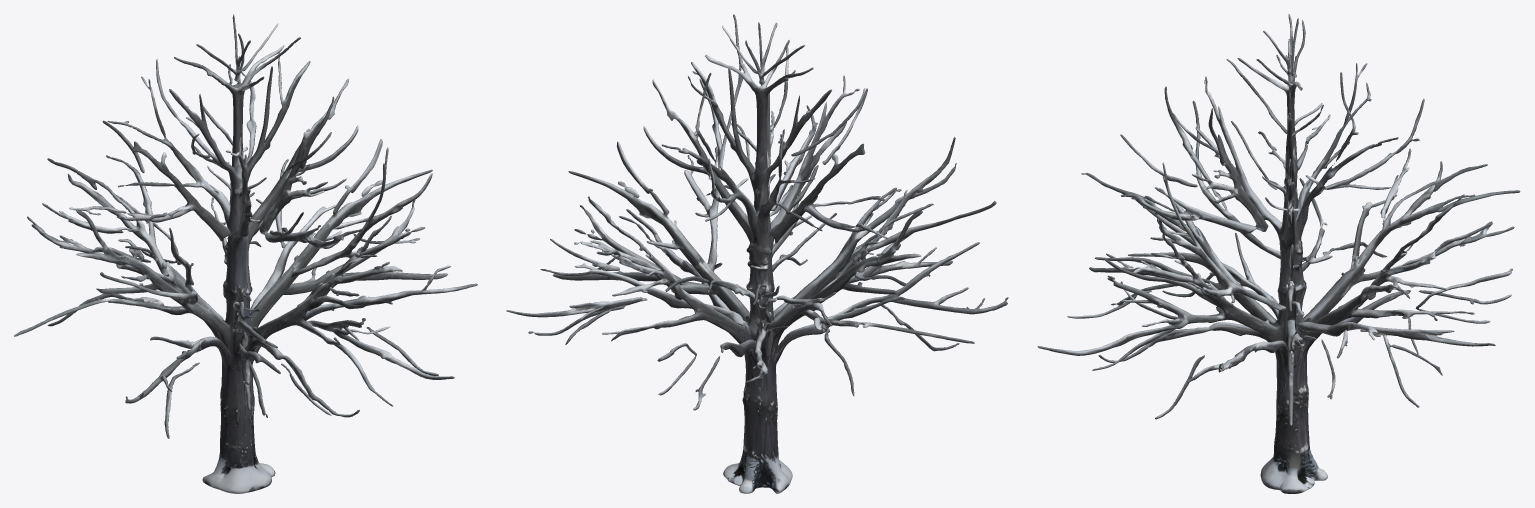
Rendered from nature-tree-winter.glb.
3 renders of one model, left to right at view 1: azimuth 30°, elevation 25°; view 2: azimuth 150°, elevation 25°; view 3: azimuth 270°, elevation 25°, orthographic.
Parts seen in each view (by area): view 1: tripo_node_2878b5ed-4d1f-47e4-9538-f21c2770aeae; view 2: tripo_node_2878b5ed-4d1f-47e4-9538-f21c2770aeae; view 3: tripo_node_2878b5ed-4d1f-47e4-9538-f21c2770aeae.
Boxes of the visible parts, <box> form: tripo_node_2878b5ed-4d1f-47e4-9538-f21c2770aeae: <box>14,14,477,493</box>; tripo_node_2878b5ed-4d1f-47e4-9538-f21c2770aeae: <box>506,14,1008,493</box>; tripo_node_2878b5ed-4d1f-47e4-9538-f21c2770aeae: <box>1037,14,1520,493</box>.
Size of the model in its own units: 6.75 by 7 by 6.65.
1 material, 1 textured.
